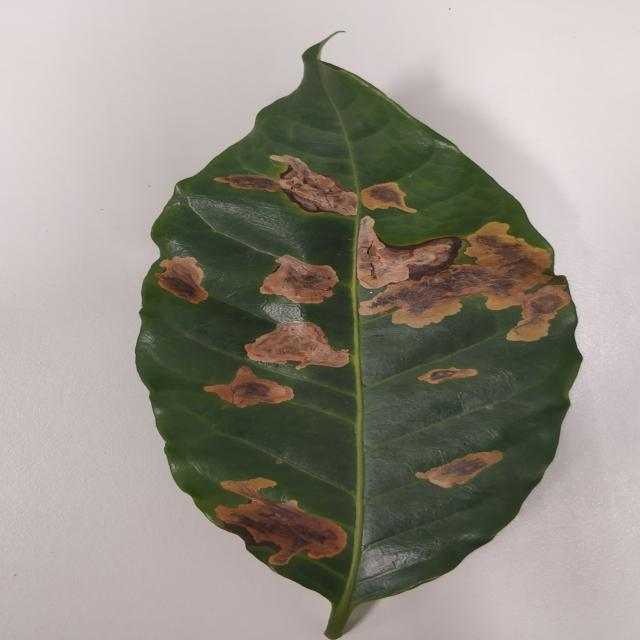Plaga-Minador: (133, 32, 583, 640)
